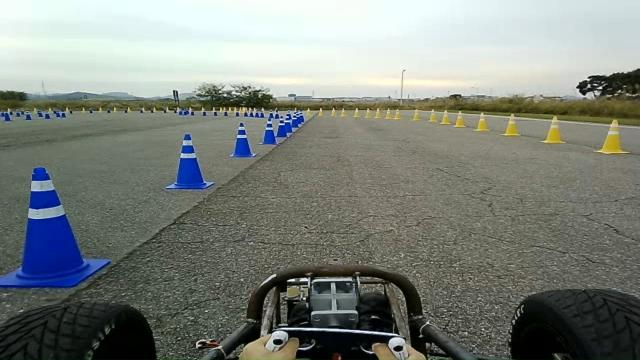blue cone: (1, 166, 111, 288), (164, 133, 215, 190), (228, 122, 256, 158), (259, 119, 278, 145)
yellow cone: (592, 119, 630, 154), (540, 115, 566, 144), (501, 113, 520, 136), (474, 112, 491, 131), (453, 111, 466, 127), (410, 108, 422, 121), (427, 109, 438, 122), (393, 108, 402, 120), (373, 107, 382, 119), (384, 108, 393, 119), (352, 107, 360, 117), (364, 108, 372, 118)
